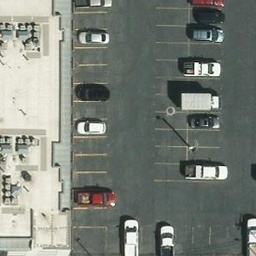car: (73, 188, 115, 209), (185, 162, 230, 180), (124, 216, 140, 256), (183, 61, 222, 76), (179, 94, 218, 109), (76, 120, 107, 135), (78, 84, 109, 99), (78, 29, 109, 44), (191, 27, 222, 42), (245, 215, 256, 256), (190, 115, 222, 128), (160, 227, 173, 256)
